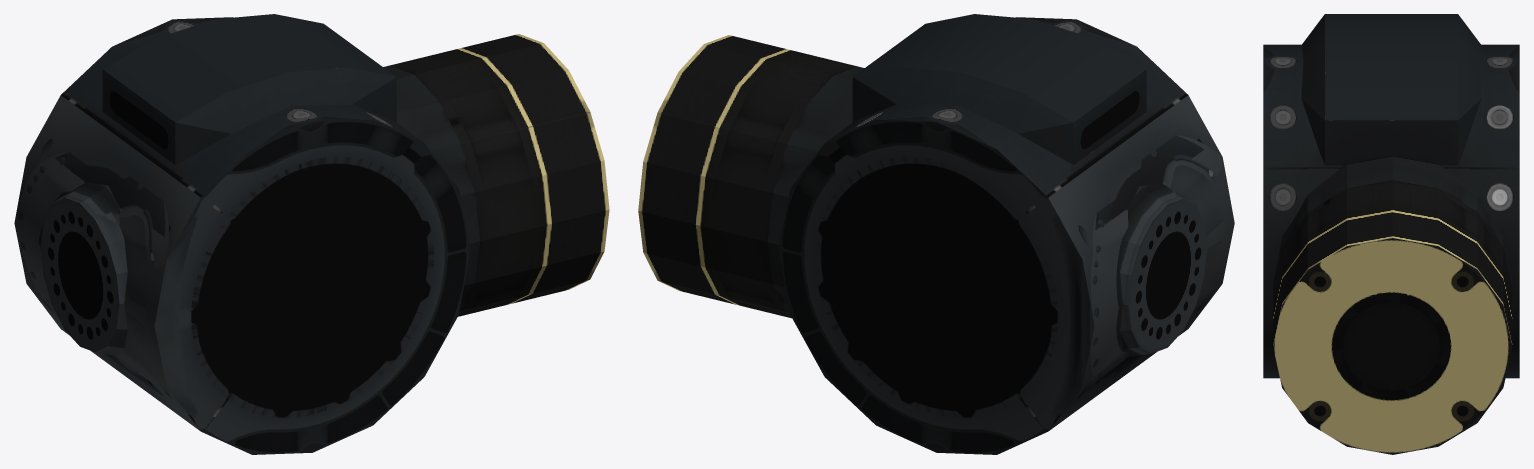
Rendered from hip_l.dae.
3 views of the same model, side by side, from view 1: azimuth 30°, elevation 25°; view 2: azimuth 150°, elevation 25°; view 3: azimuth 270°, elevation 25° (orthographic). The views are drawn at different scales.
Parts seen in each view (by area): view 1: Cylinder; view 2: Cylinder; view 3: Cylinder.
Part boxes in pixels (x1,y1,x2,y2): Cylinder: [14, 14, 609, 454]; Cylinder: [638, 14, 1234, 454]; Cylinder: [1263, 14, 1519, 454].
Bounding box in the file's own units: 0.172 × 0.09 × 0.1252.
Materials: 1 (1 with a texture image).
